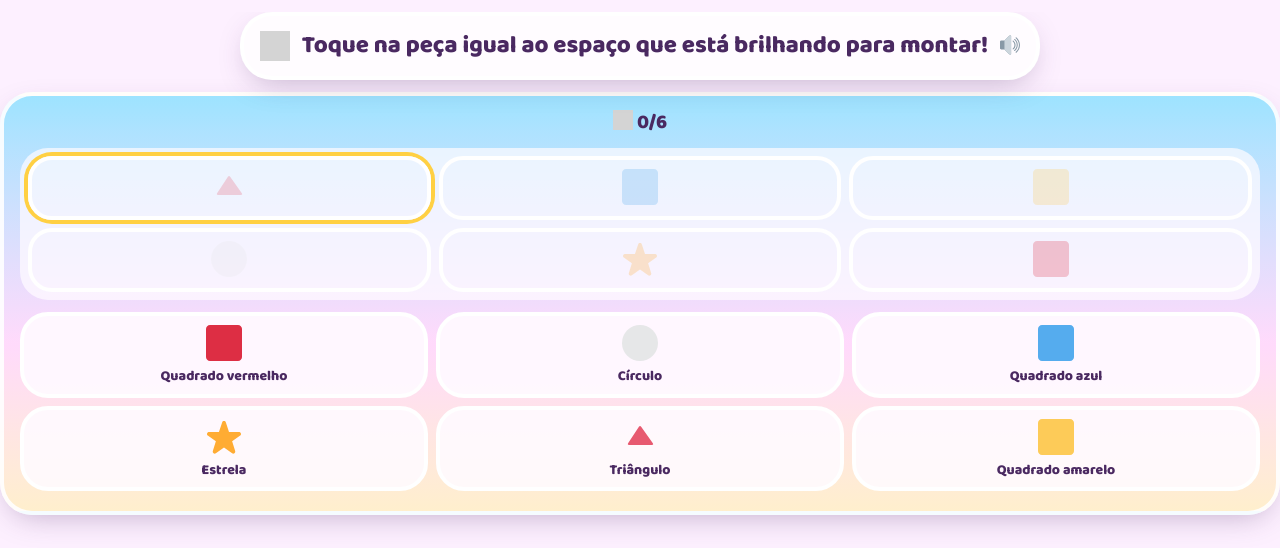
Test case: controles das novas mecânicas › conclui build pelos botões visíveis uma única vez
Click the button "Triângulo" at (640,448), box x1=436 y1=406 x2=844 y2=491
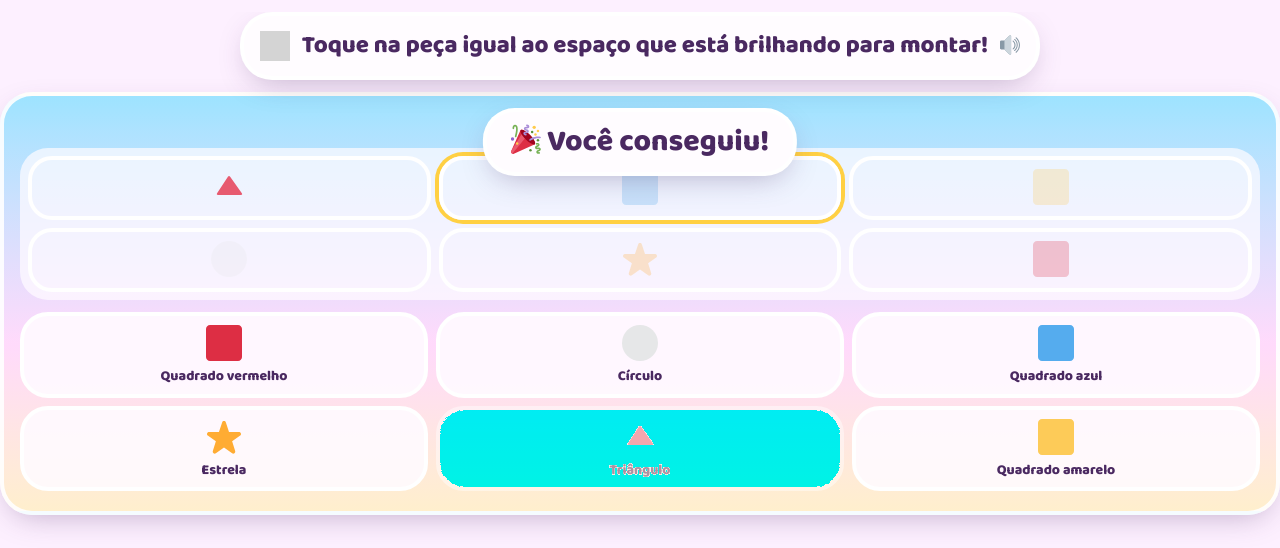
Click the button "Quadrado azul" at (1056,355), box x1=852 y1=312 x2=1260 y2=398
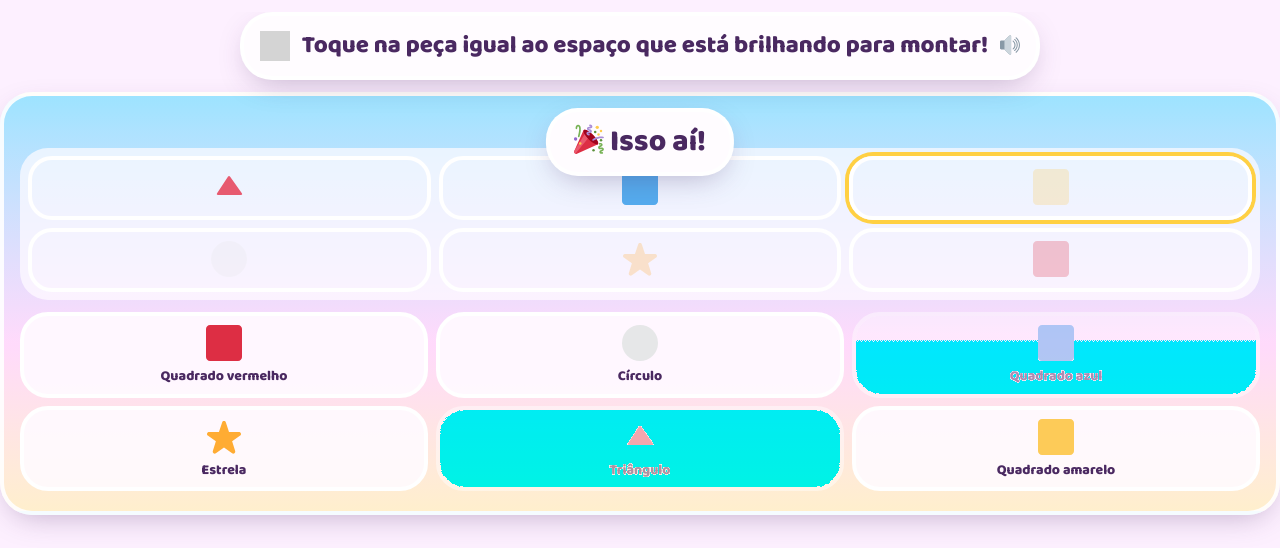
Click the button "Quadrado amarelo" at (1056,448), box x1=852 y1=406 x2=1260 y2=491
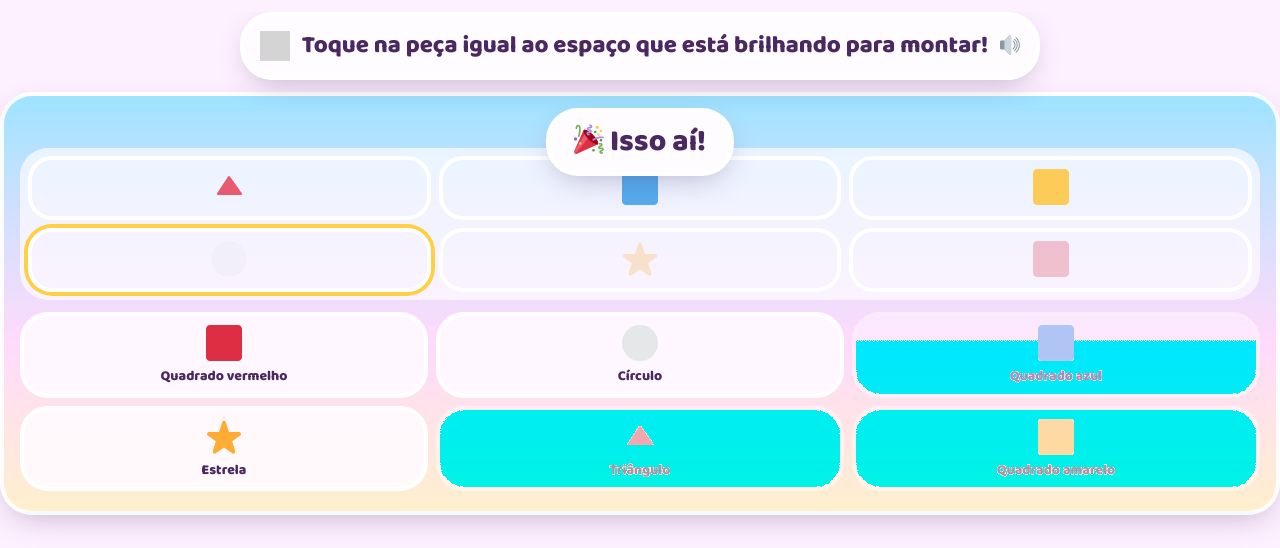
Click the button "Círculo" at (640,355), box x1=436 y1=312 x2=844 y2=398
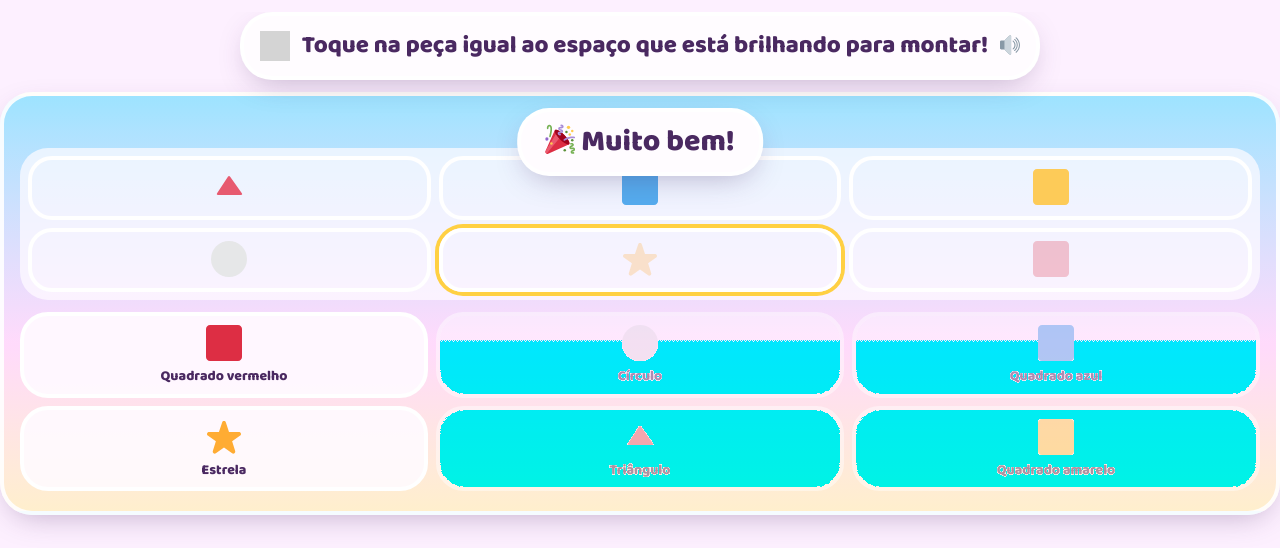
Click the button "Estrela" at (224,448), box x1=20 y1=406 x2=428 y2=491
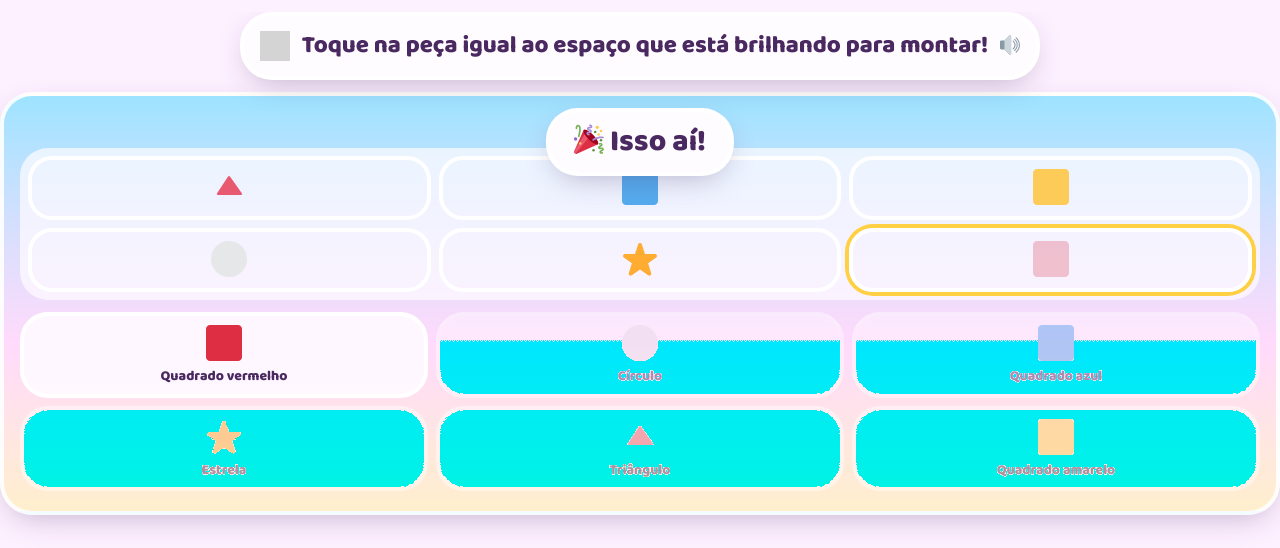
Click the button "Quadrado vermelho" at (224,355), box x1=20 y1=312 x2=428 y2=398
Wait 4700 ms
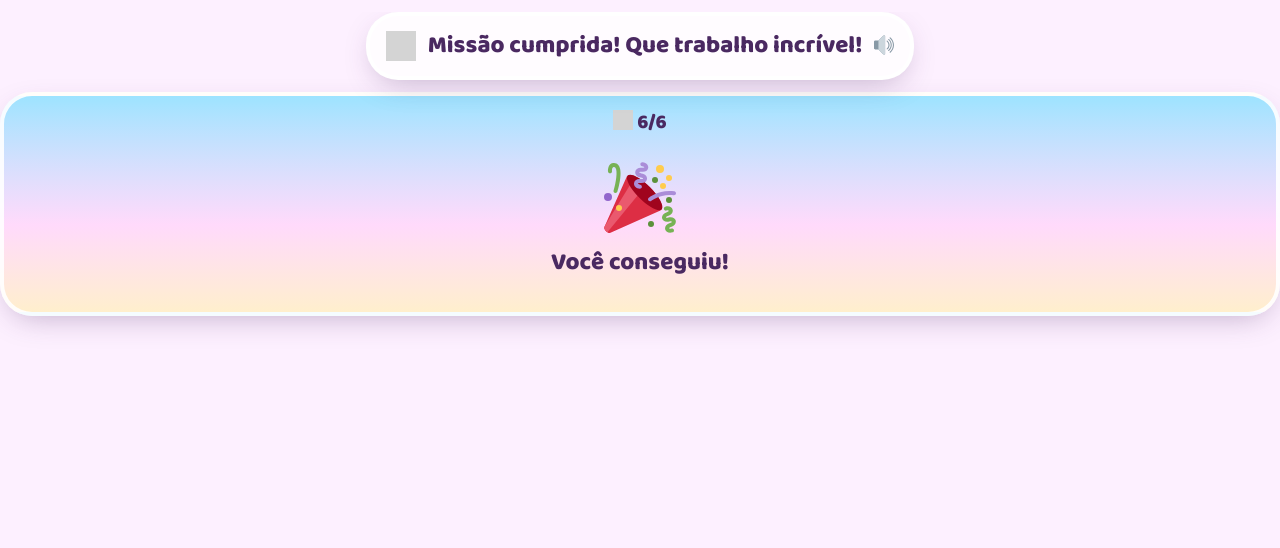
Expected: the message reads "6/6", x1=613 y1=106 x2=667 y2=138
